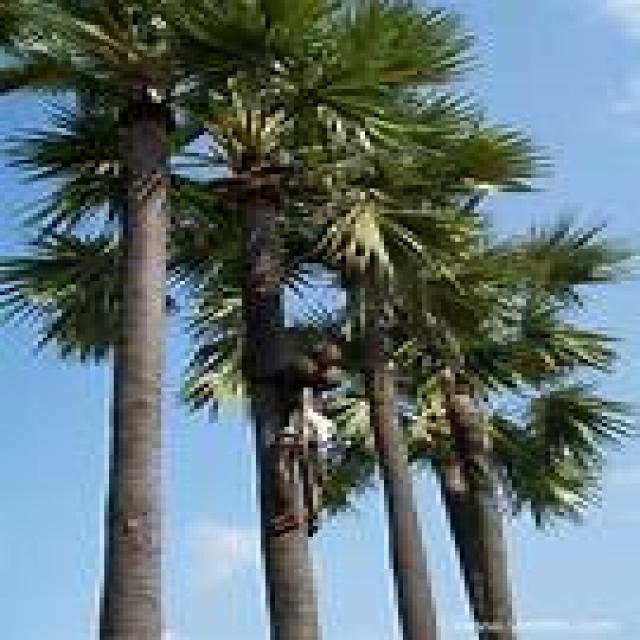Plam-Tree: (64, 26, 288, 640), (331, 61, 604, 483)
